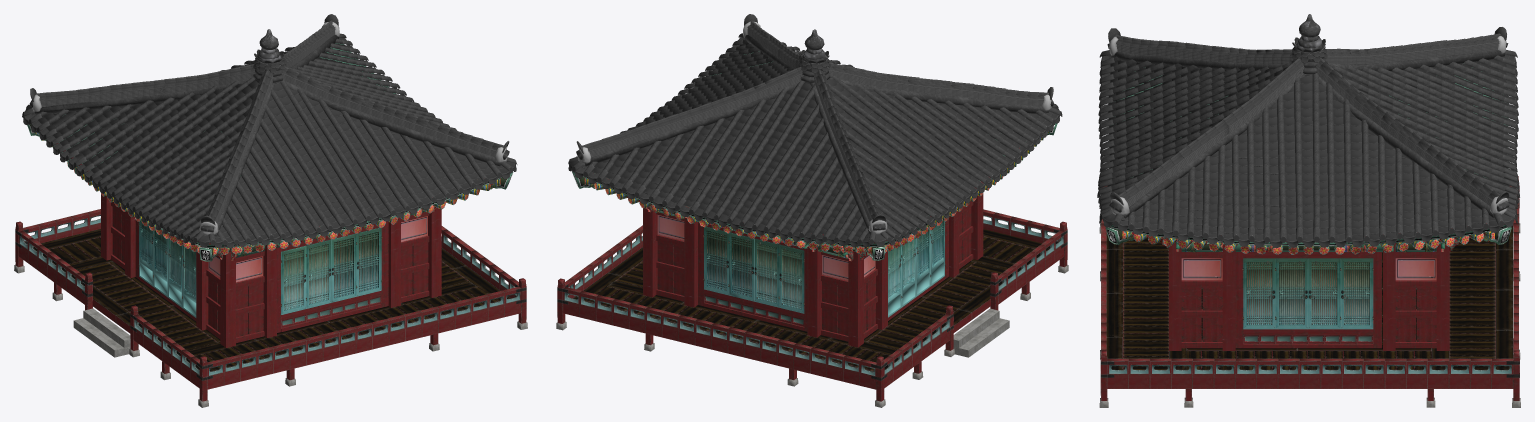
File: 12 Gyullimdang.fbx
3 views of the same model, side by side, from view 1: azimuth 30°, elevation 25°; view 2: azimuth 150°, elevation 25°; view 3: azimuth 270°, elevation 25° (orthographic). The views are drawn at different scales.
Parts seen in each view (by area): view 1: 12_Gyullimdang; view 2: 12_Gyullimdang; view 3: 12_Gyullimdang.
Boxes of the visible parts, left/top/right/bottom form: 12_Gyullimdang: left=14, top=14, right=527, bottom=407; 12_Gyullimdang: left=556, top=14, right=1068, bottom=407; 12_Gyullimdang: left=1097, top=14, right=1520, bottom=407.
Size of the model in its own units: 997 by 760 by 961.
